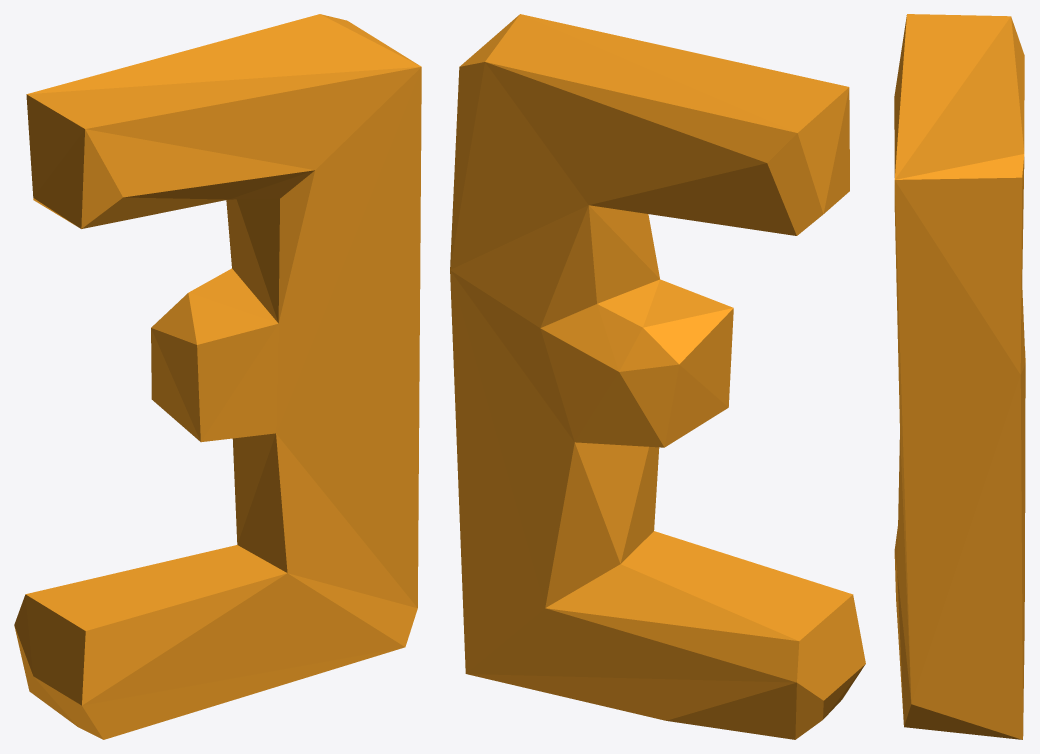
The model's file is SM_Icon_Number_3_01.fbx.
3 renders of one model, left to right at view 1: azimuth 30°, elevation 25°; view 2: azimuth 150°, elevation 25°; view 3: azimuth 270°, elevation 25°, orthographic. The views are drawn at different scales.
Parts seen in each view (by area): view 1: SM_Icon_Number_3_01; view 2: SM_Icon_Number_3_01; view 3: SM_Icon_Number_3_01.
Boxes of the visible parts, x1,y1,x2,y2 form: SM_Icon_Number_3_01: [14, 14, 421, 739]; SM_Icon_Number_3_01: [450, 14, 865, 739]; SM_Icon_Number_3_01: [894, 14, 1025, 739].
Bounding box in the file's own units: 31.05 × 52.17 × 10.65.
